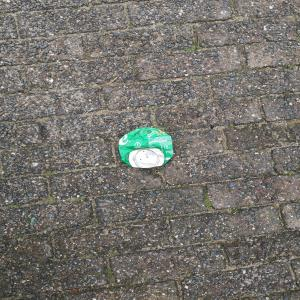Can: (117, 126, 178, 172)
